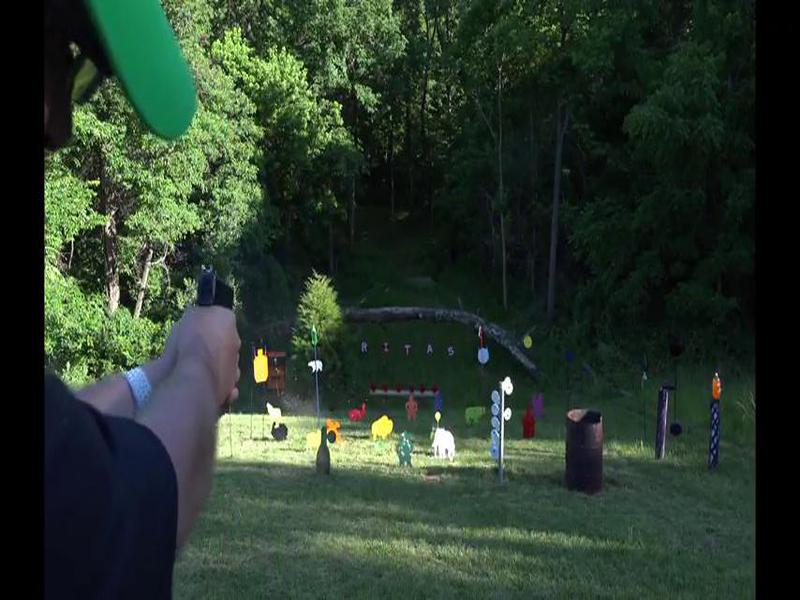Pistola: (188, 254, 245, 324)
